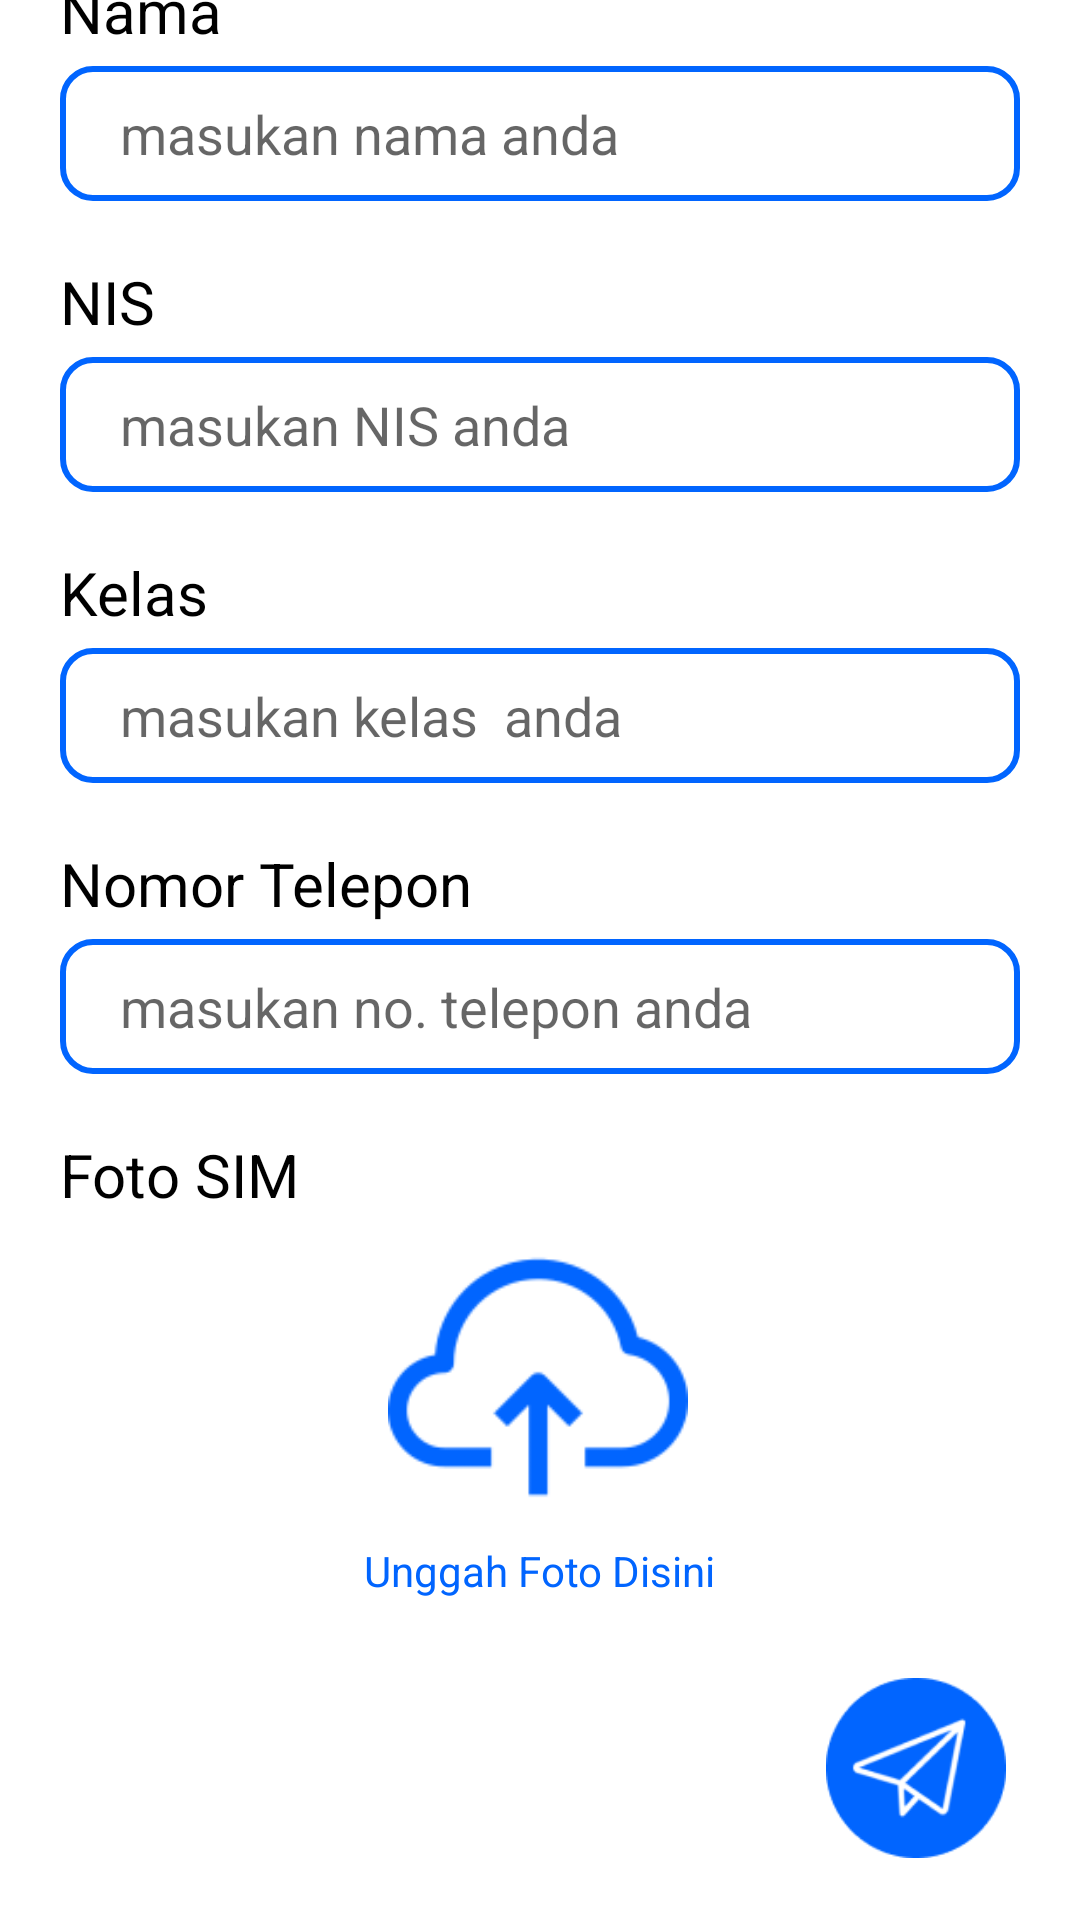

Icons on this 1080px x 1920px Android screen, each with the point to tap as [x,y]:
send: [916,1768]
